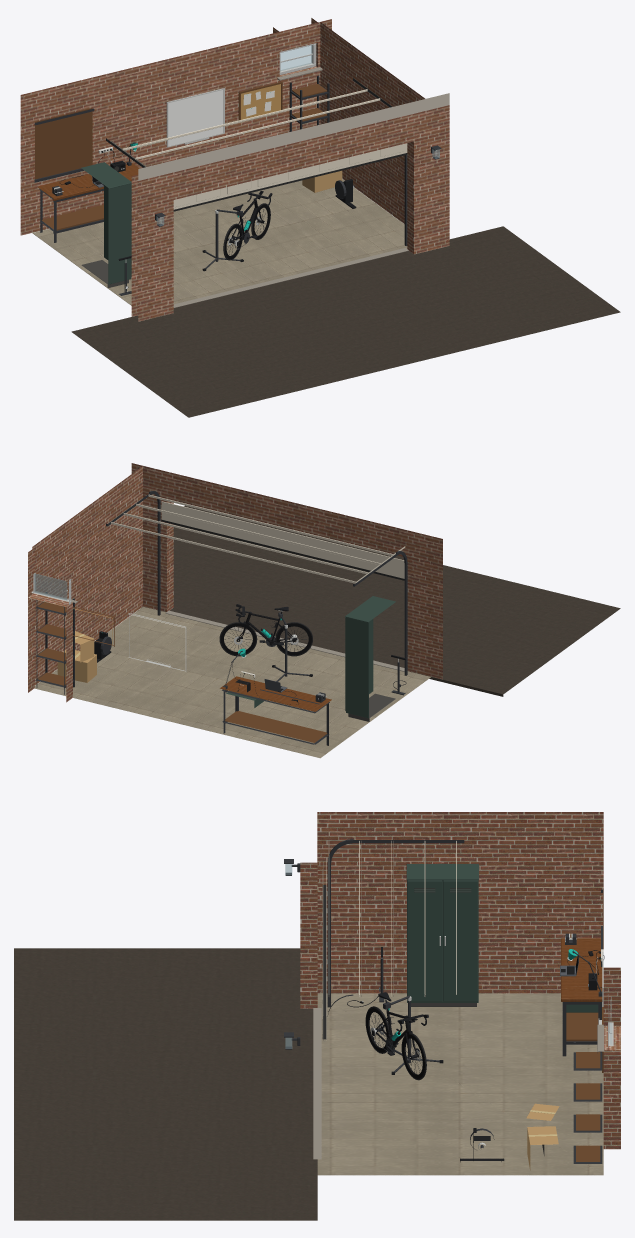
File: garage.glb
3 views of the same model, one above another, from view 1: azimuth 30°, elevation 25°; view 2: azimuth 150°, elevation 25°; view 3: azimuth 270°, elevation 25° (orthographic). The views are drawn at different scales.
Visible parts, largest first — view 1: Vorplatz, Wand_Rueck, Boden, Sturz, Wand_Rechts, Pfeiler_R, Pfeiler_L, Decke, Werkzeugwand, Schrank, Whiteboard, Tor_Segment_Kassetten (+10 smaller); view 2: Vorplatz, Boden, Wand_Rechts, Sturz, Tor_Segment, Pfeiler_L, Schrank, Tor_Deckenlauf, Pfeiler_R, Werkbank_Gestell, Wand_Rueck, Regal (+10 smaller); view 3: Vorplatz, Boden, Wand_Links, Schrank_Tuer_R, Schrank_Tuer_L, Wand_Rueck, Pfeiler_L, Regal, Schrank, Werkbank_Platte, Werkbank_Gestell, Tor_Deckenlauf (+7 smaller).
Boxes of the visible parts, x1,y1,x2,y2 form: Vorplatz: (71,226,620,417); Wand_Rueck: (20,18,331,235); Boden: (32,179,407,305); Sturz: (138,105,449,208); Wand_Rechts: (320,22,425,223); Pfeiler_R: (407,133,449,254); Pfeiler_L: (138,200,173,321); Decke: (138,93,449,180); Werkzeugwand: (34,108,94,182); Schrank: (81,162,131,287); Whiteboard: (166,88,224,147); Tor_Segment_Kassetten: (173,144,404,207); Vorplatz: (145,505,620,696); Boden: (34,606,430,758); Wand_Rechts: (32,466,142,685); Sturz: (131,463,442,566); Tor_Segment: (161,501,404,578); Pfeiler_L: (407,558,442,679); Schrank: (345,596,395,721); Tor_Deckenlauf: (111,494,405,583); Pfeiler_R: (143,493,173,612); Werkbank_Gestell: (222,689,329,745); Wand_Rueck: (28,548,72,702); Regal: (35,592,74,694); Vorplatz: (14,948,317,1220); Boden: (317,993,603,1175); Wand_Links: (317,812,603,993); Schrank_Tuer_R: (407,880,442,1001); Schrank_Tuer_L: (443,880,477,1001); Wand_Rueck: (603,967,620,1149); Pfeiler_L: (300,862,317,1008); Regal: (573,1042,602,1163); Schrank: (406,864,478,1006); Werkbank_Platte: (561,938,602,1001); Werkbank_Gestell: (562,1002,601,1056); Tor_Deckenlauf: (328,841,456,996).
Size of the model in its own units: 9 by 3.09 by 8.48.
Materials: 29 (4 with a texture image).
